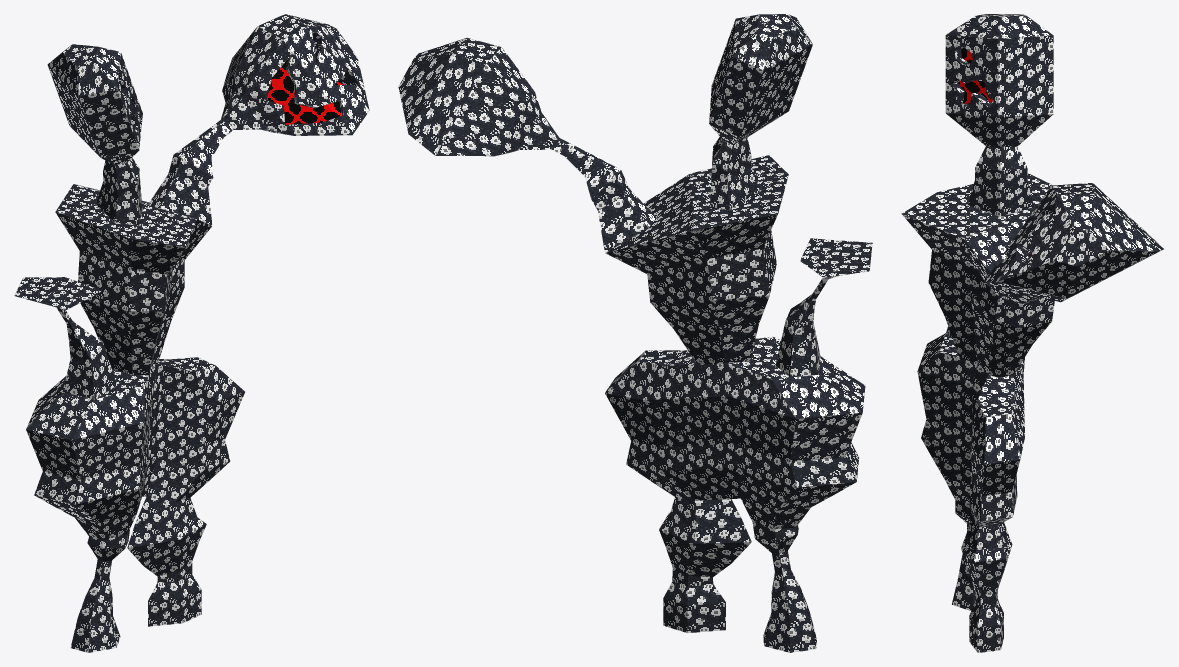
Rendered from weirdstatue.obj.
The picture shows the model from 3 angles, left to right: view 1: azimuth 30°, elevation 25°; view 2: azimuth 150°, elevation 25°; view 3: azimuth 270°, elevation 25°; orthographic projection. The views are drawn at different scales.
Parts seen in each view (by area): view 1: Plane, Plane.001; view 2: Plane; view 3: Plane, Plane.001.
Part boxes in pixels (box(x1,y1,x2,y2)): Plane: box(14, 14, 369, 652); Plane.001: box(266, 58, 343, 124); Plane: box(398, 14, 872, 652); Plane: box(901, 14, 1163, 652); Plane.001: box(958, 48, 1031, 255).
Bounding box in the file's own units: 8.56 × 12.57 × 5.08.
